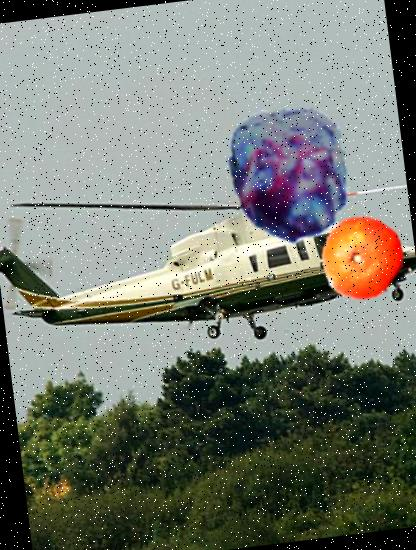Clementine: (314, 211, 412, 308)
Dates: (211, 98, 366, 252)
